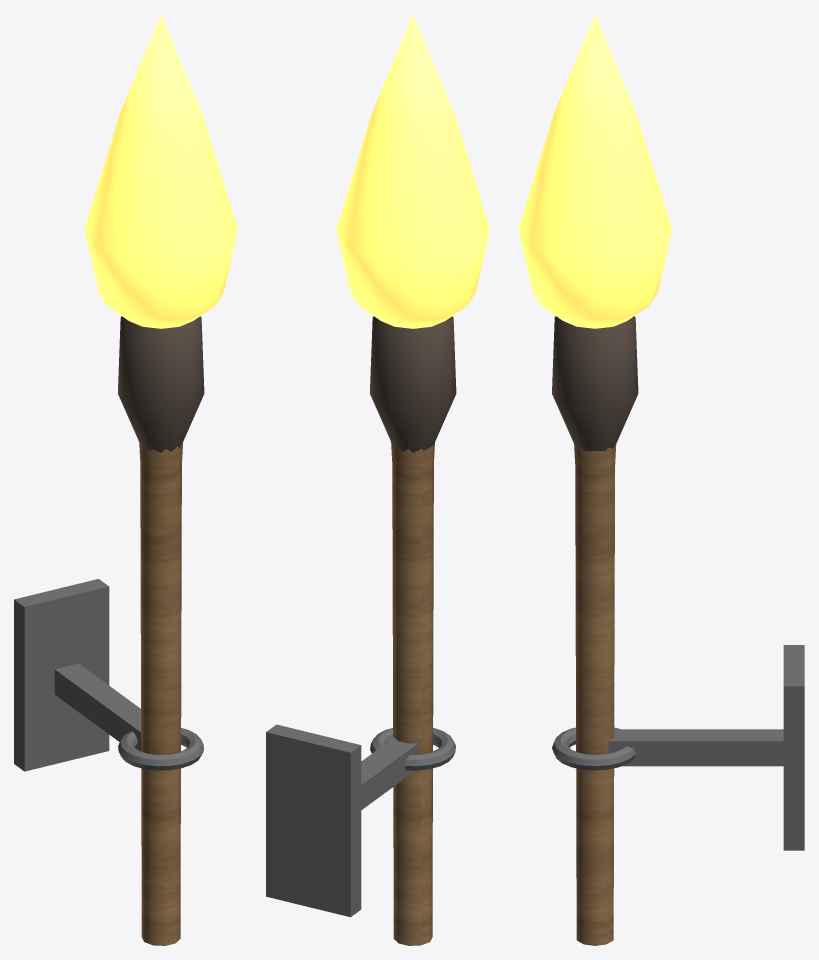
File: Torch.glb
The picture shows the model from 3 angles, left to right: view 1: azimuth 30°, elevation 25°; view 2: azimuth 150°, elevation 25°; view 3: azimuth 270°, elevation 25°; orthographic projection.
Parts seen in each view (by area): view 1: Torch; view 2: Torch; view 3: Torch.
Boxes of the visible parts, bbox=[...] form: Torch: bbox=[14, 14, 237, 945]; Torch: bbox=[266, 14, 489, 945]; Torch: bbox=[518, 14, 804, 945].
Size of the model in its own units: 0.22 by 1.46 by 0.41.
Materials: 4 (1 with a texture image).
